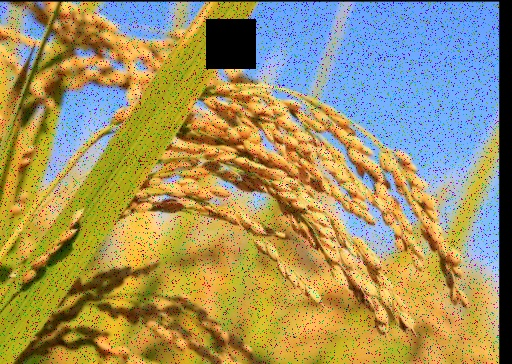rice: (39, 11, 480, 346)
